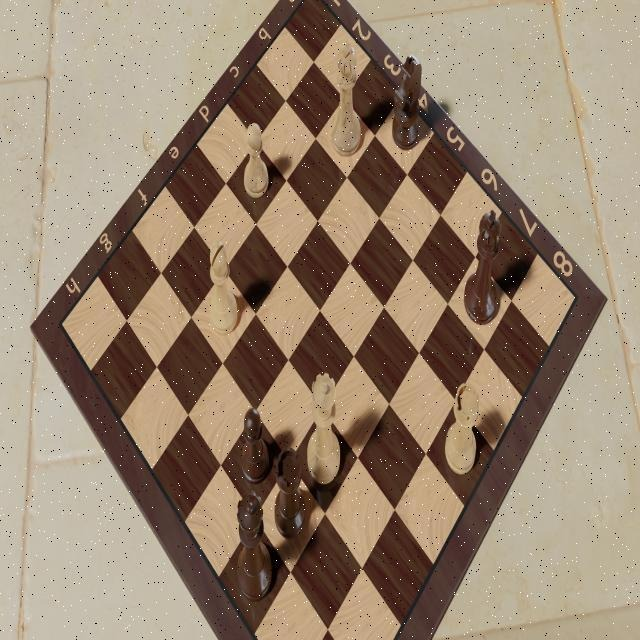black-king: (463, 203, 501, 325)
black-knight: (391, 51, 425, 155)
black-pawn: (236, 407, 272, 493)
black-queen: (233, 489, 274, 611)
black-rook: (271, 443, 309, 544)
white-bishop: (207, 238, 240, 338)
white-king: (330, 42, 364, 158)
white-pawn: (242, 121, 272, 199)
white-queen: (305, 369, 343, 491)
white-rook: (443, 380, 481, 483)
